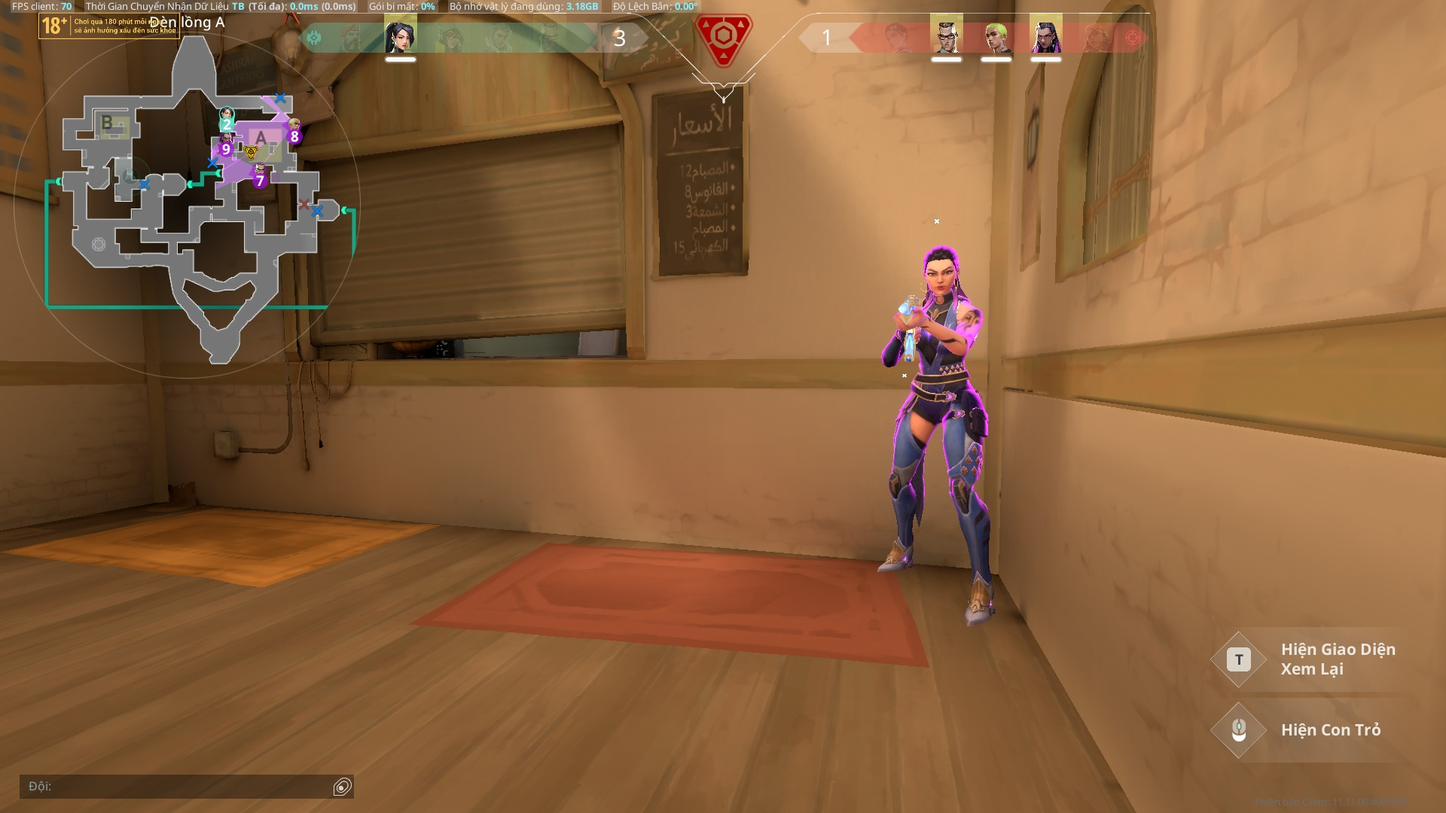body: (911, 287, 975, 373)
head: (922, 248, 956, 291)
